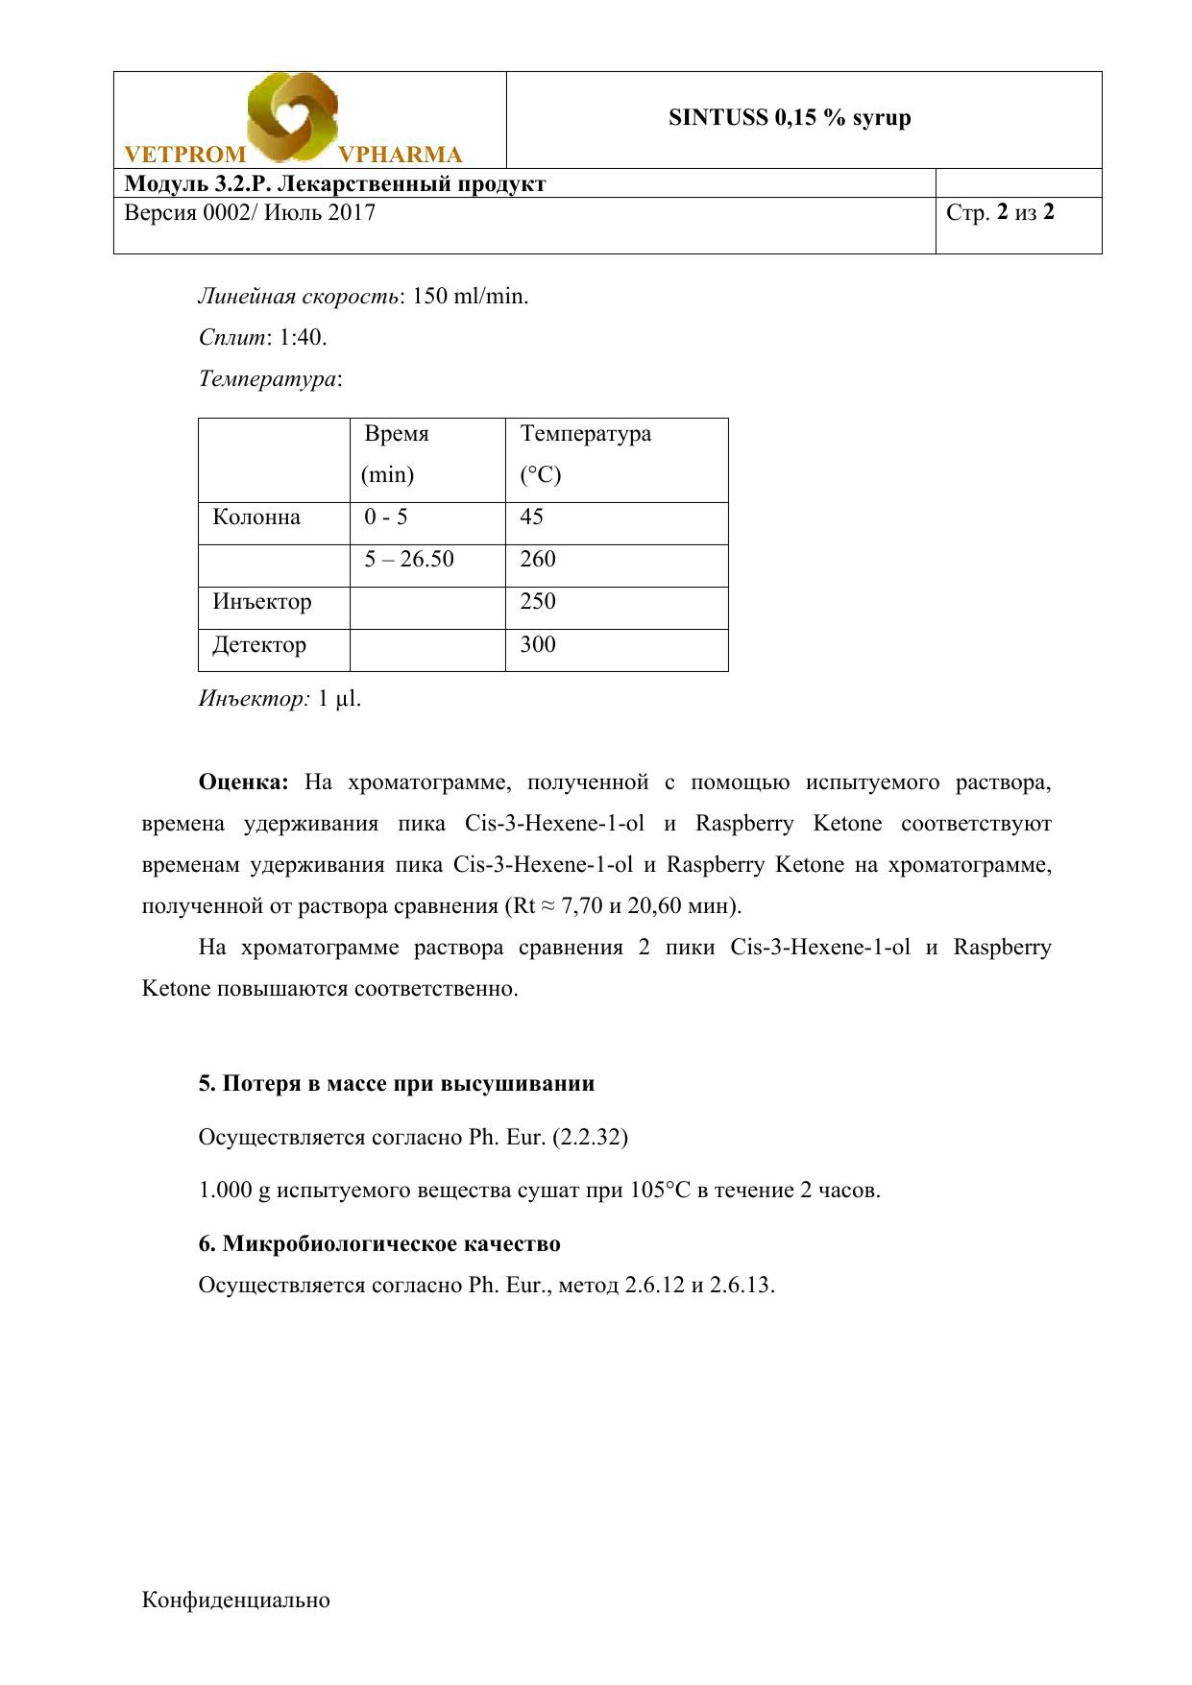full_lined: (196, 415, 730, 672)
merged_cells: (111, 68, 1104, 257)
